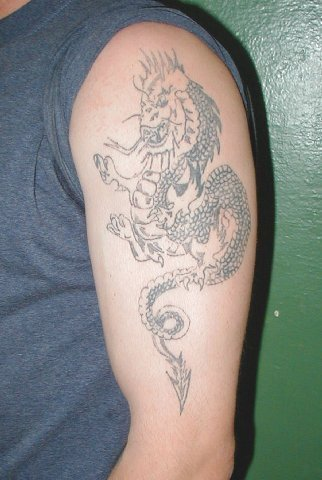tatu6_drakon: (80, 33, 262, 425)
